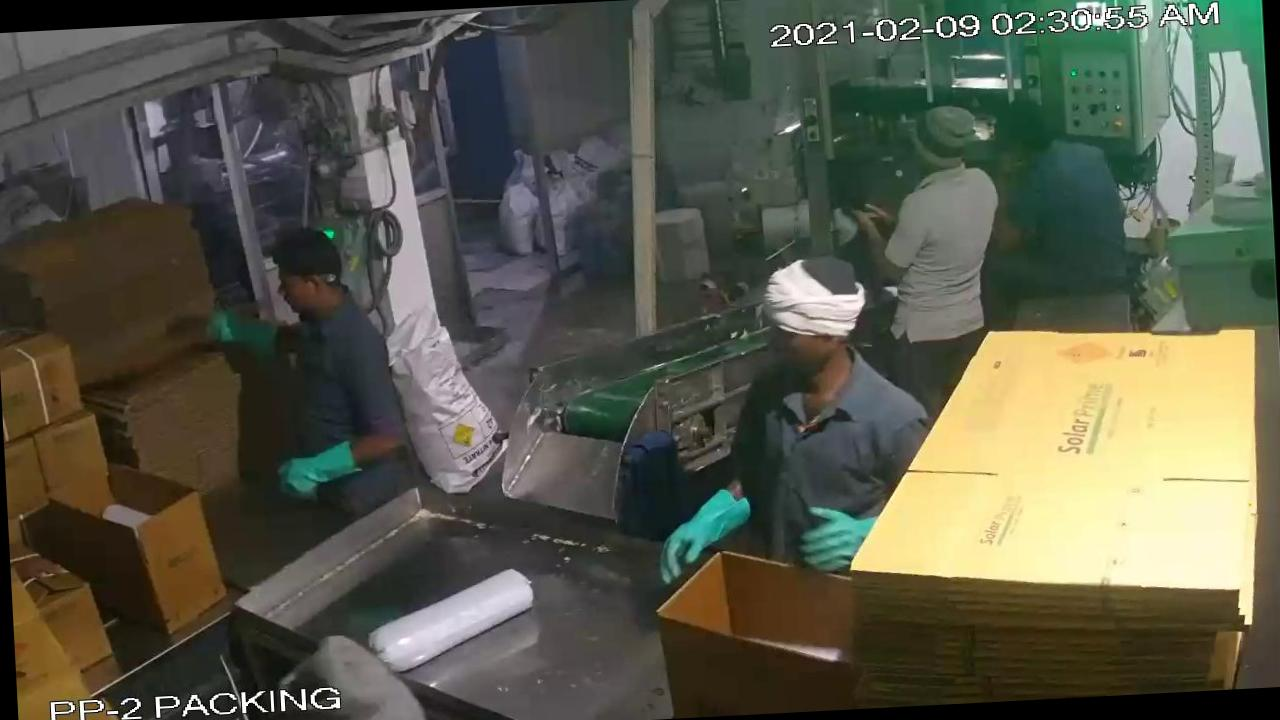Gloves: (637, 477, 765, 592), (780, 495, 896, 586), (256, 433, 393, 508), (182, 297, 302, 381)
No-gloves: (832, 192, 919, 294)
